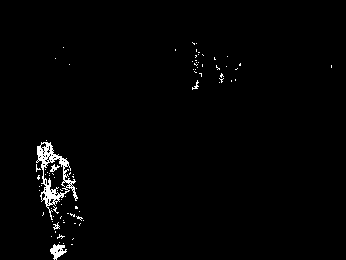person: (33, 139, 83, 258)
